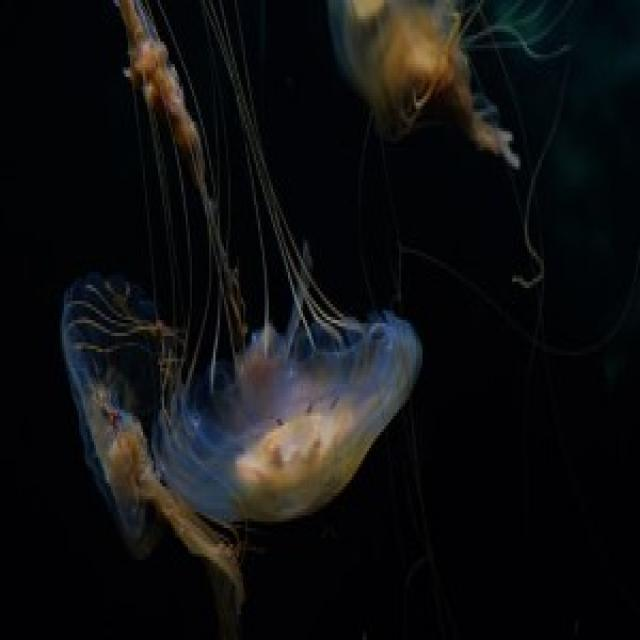Jellyfish: (163, 314, 451, 557), (50, 264, 156, 586)
